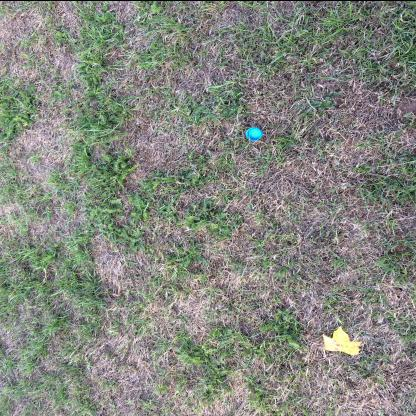plastik: (246, 127, 264, 141)
